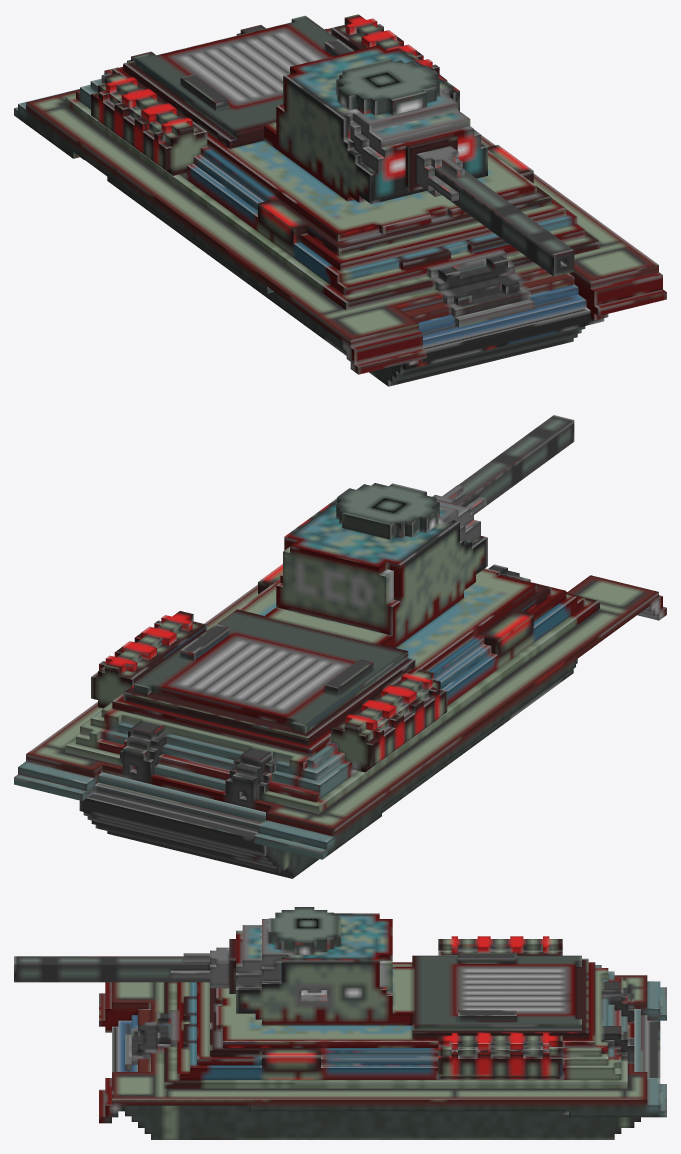
Rendered from Medium.fbx.
The picture shows the model from 3 angles, top to bottom: view 1: azimuth 30°, elevation 25°; view 2: azimuth 150°, elevation 25°; view 3: azimuth 270°, elevation 25°; orthographic projection. The views are drawn at different scales.
Visible parts, largest first — view 1: Untitled; view 2: Untitled; view 3: Untitled.
Part boxes in pixels (x1=…): Untitled: x1=14, y1=14, x2=666, y2=386; Untitled: x1=14, y1=415, x2=666, y2=878; Untitled: x1=14, y1=907, x2=666, y2=1139.
Bounding box in the file's own units: 450 × 300 × 1000.
Materials: 1 (1 with a texture image).
